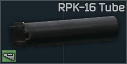RPK-16 buffer tube: (0, 0, 127, 64)
